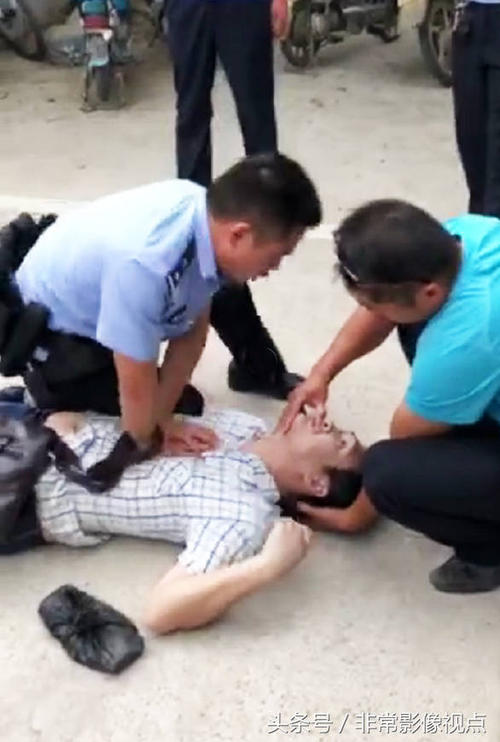fall: (0, 364, 386, 669)
